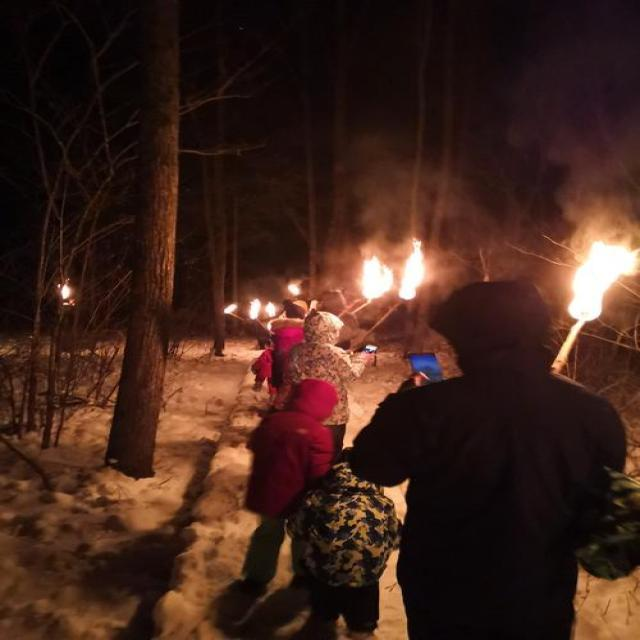Fire: (567, 238, 640, 322), (360, 232, 432, 304), (220, 280, 298, 320)
